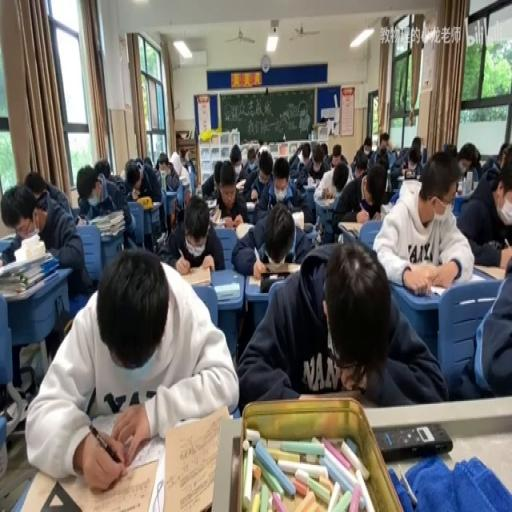calculator: (86, 410, 164, 474), (145, 445, 164, 512), (249, 264, 301, 286), (443, 267, 491, 286), (176, 260, 210, 284), (213, 282, 241, 300), (338, 220, 364, 234), (236, 219, 254, 238), (290, 209, 304, 232), (154, 230, 166, 250), (429, 284, 448, 296), (315, 195, 335, 206), (380, 202, 393, 218), (209, 205, 221, 222), (0, 232, 15, 243), (204, 196, 217, 208), (74, 214, 88, 224), (234, 179, 246, 189), (245, 200, 255, 212), (178, 174, 188, 184), (307, 178, 319, 186), (195, 184, 202, 196), (150, 199, 161, 206), (396, 172, 403, 179)
paper: (28, 246, 238, 488), (235, 240, 438, 410), (372, 148, 474, 291), (0, 179, 90, 300), (449, 239, 512, 401), (230, 196, 313, 273), (157, 193, 222, 273), (78, 162, 134, 253), (334, 161, 387, 239), (208, 160, 250, 228), (242, 150, 276, 214), (125, 156, 162, 206), (387, 134, 423, 179), (301, 142, 333, 182), (454, 142, 480, 182), (23, 171, 48, 202), (351, 135, 373, 169), (328, 141, 348, 169), (286, 142, 302, 171), (496, 142, 510, 169), (94, 158, 110, 180), (374, 148, 388, 169), (156, 152, 170, 172), (165, 170, 179, 190), (178, 146, 190, 168), (378, 134, 390, 152), (442, 142, 457, 156), (257, 142, 269, 158), (411, 136, 421, 150), (408, 155, 418, 169), (247, 148, 256, 163), (142, 156, 152, 168), (240, 148, 247, 165), (388, 149, 397, 162), (118, 168, 126, 180), (134, 158, 142, 168)
person: (373, 424, 451, 461), (404, 169, 414, 179)
